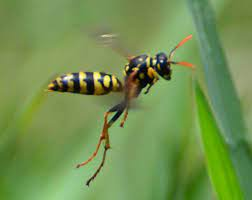insect: (43, 31, 193, 186)
